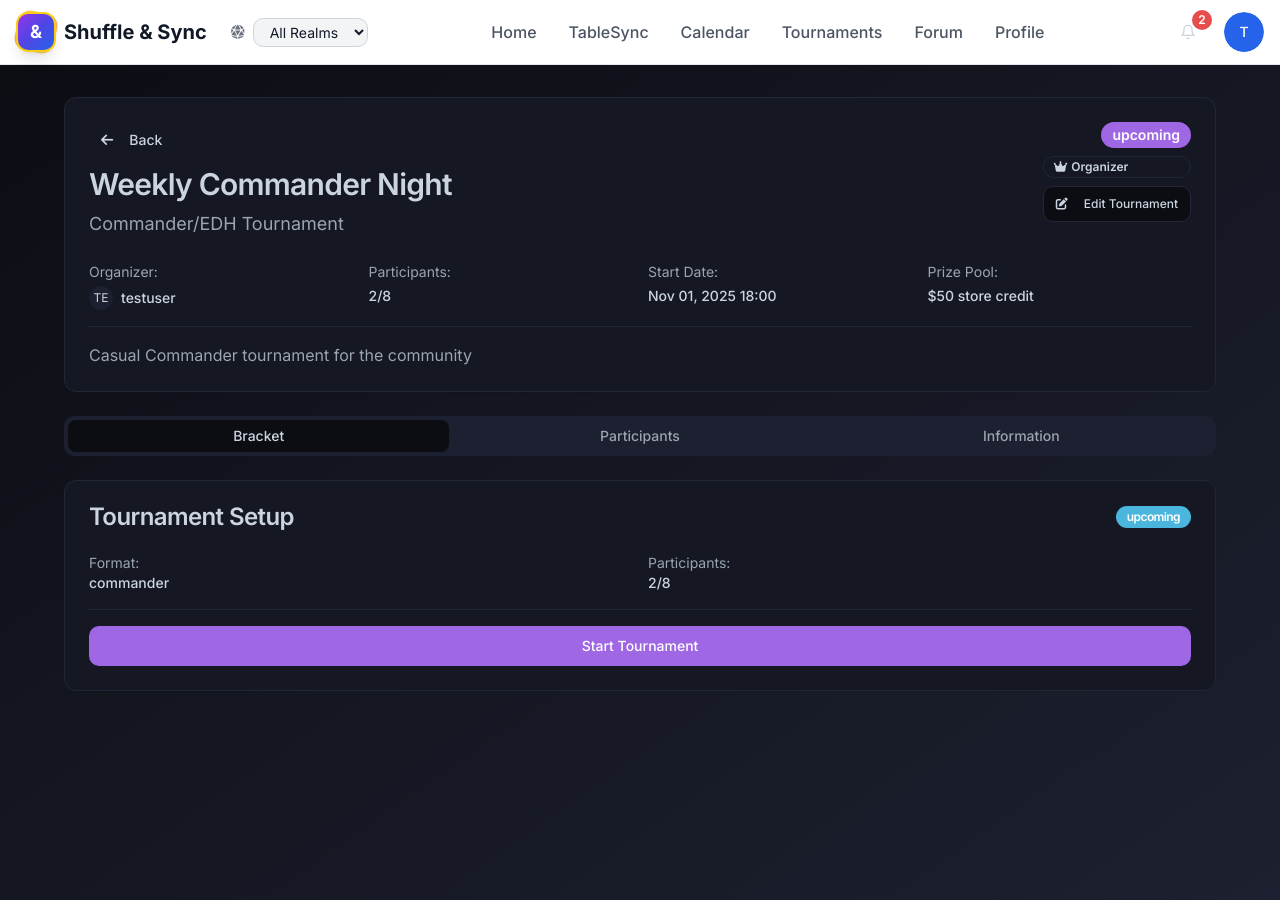
Test case: Tournament Detail Page › Participants Tab › switches to participants tab
This screenshot has width=1280, height=900.
Click the tab with test id "tab-participants".
click(640, 436)  # box [449,420,831,452]
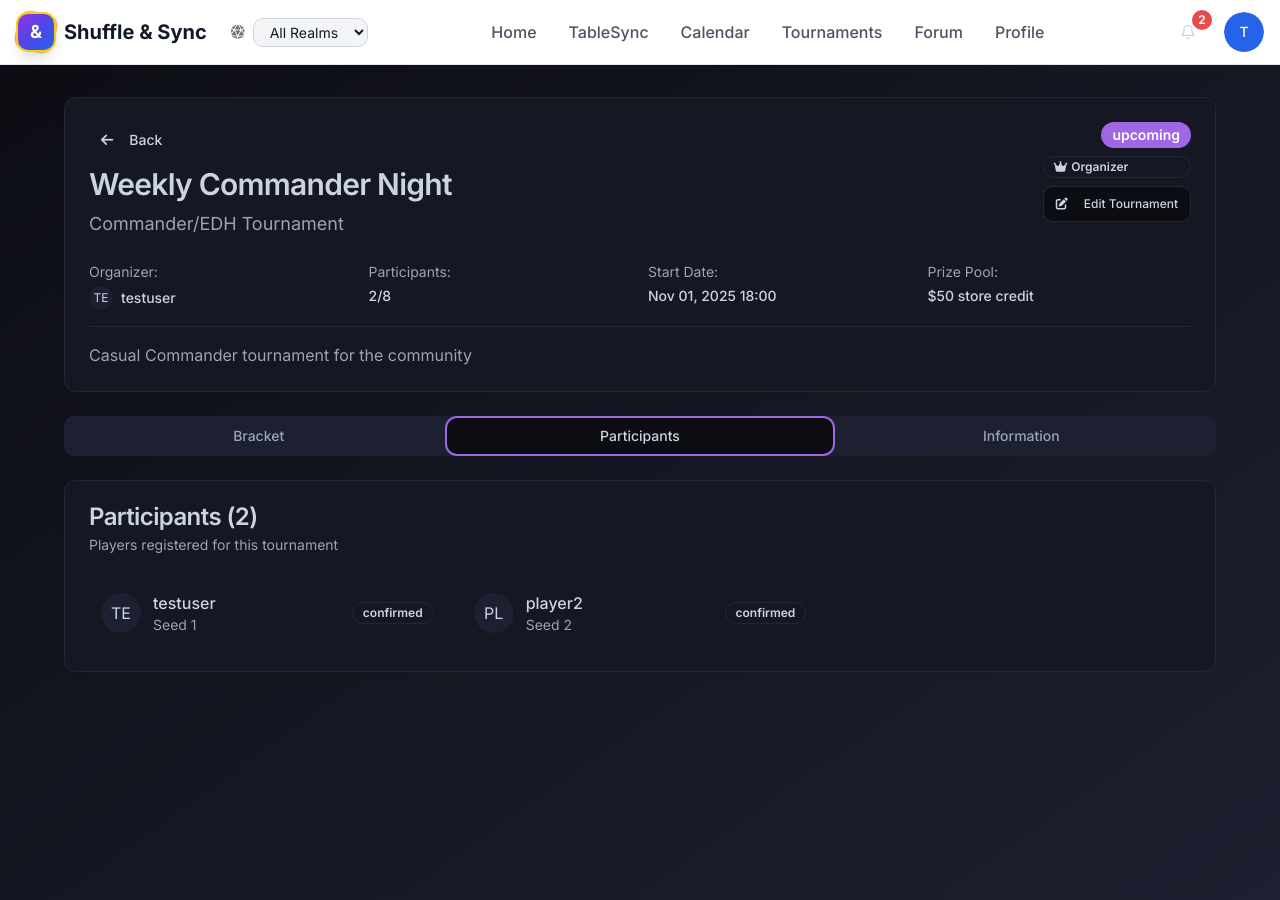
Now the text "Participants (2)" is shown, box [89,502,258,531]
